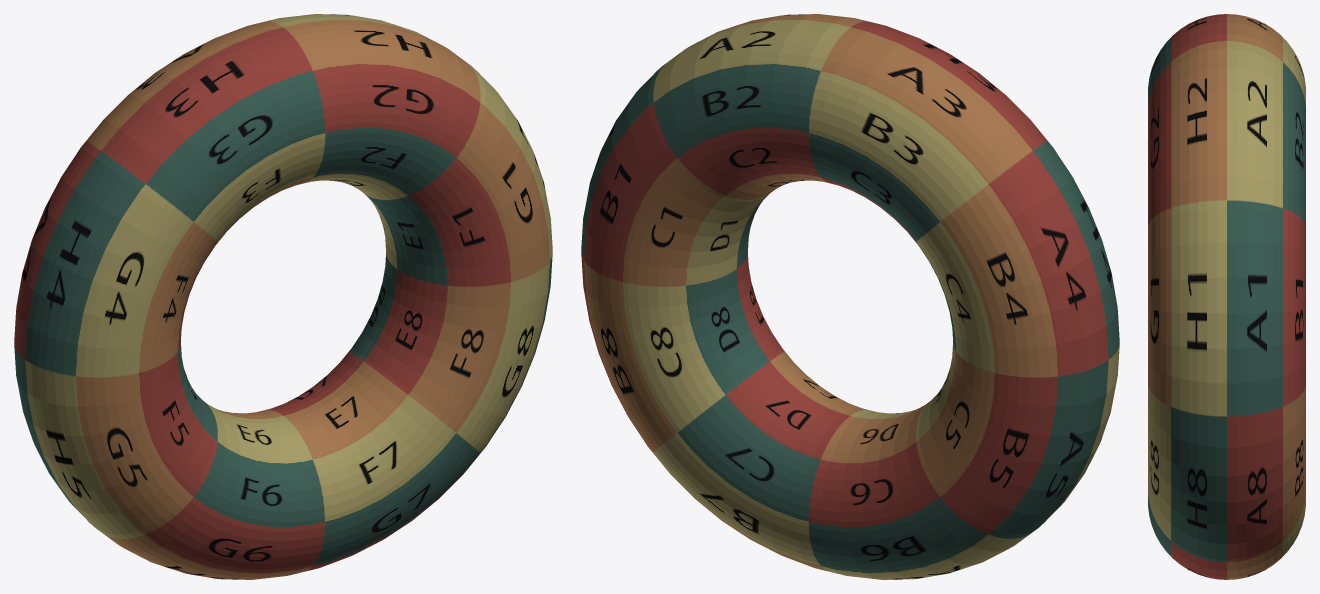
The model's file is texture_torus_R2_r9.glb.
3 renders of one model, left to right at view 1: azimuth 30°, elevation 25°; view 2: azimuth 150°, elevation 25°; view 3: azimuth 270°, elevation 25°, orthographic. The views are drawn at different scales.
Parts seen in each view (by area): view 1: world; view 2: world; view 3: world.
Boxes of the visible parts, bbox=[...] form: world: bbox=[14, 14, 552, 579]; world: bbox=[581, 14, 1119, 579]; world: bbox=[1148, 14, 1305, 579].
Size of the model in its own units: 15.73 by 15.7 by 4.39.
1 material, 1 textured.
